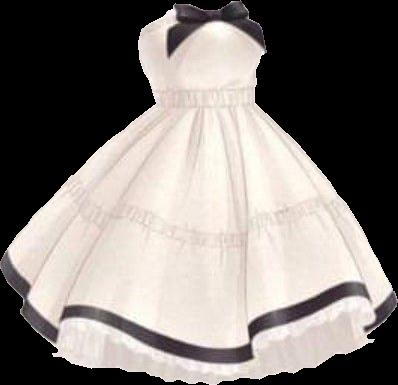Bodice: (138, 1, 266, 110)
Hemline: (0, 259, 397, 384)
Neckline: (140, 1, 264, 32)
Skirt: (0, 103, 396, 384)
Waistline: (152, 99, 254, 113)
